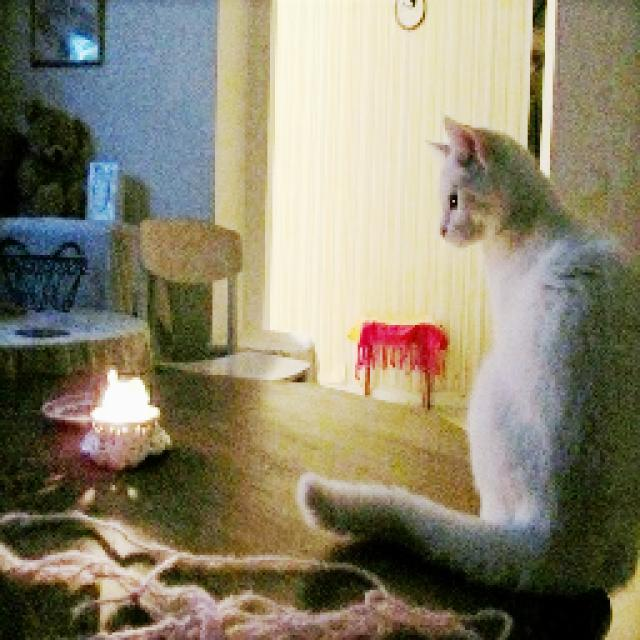cat: (287, 114, 640, 597)
